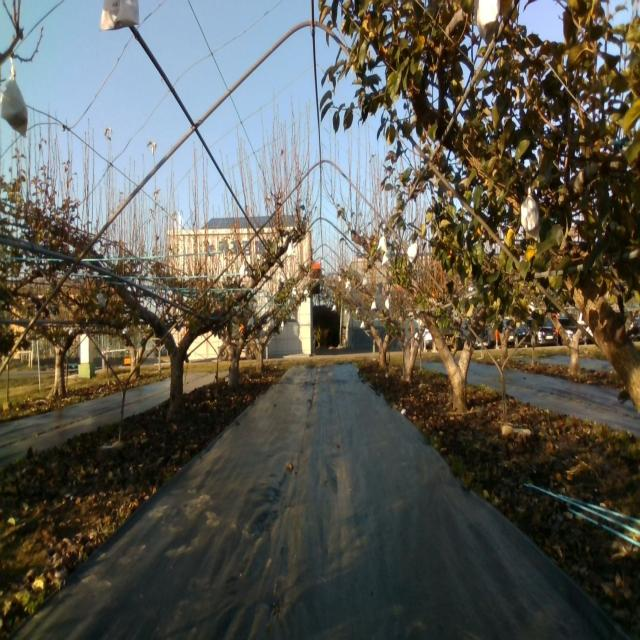pearbags: (0, 64, 28, 140), (98, 0, 139, 32), (520, 192, 541, 240), (475, 0, 501, 33), (407, 242, 418, 264)
